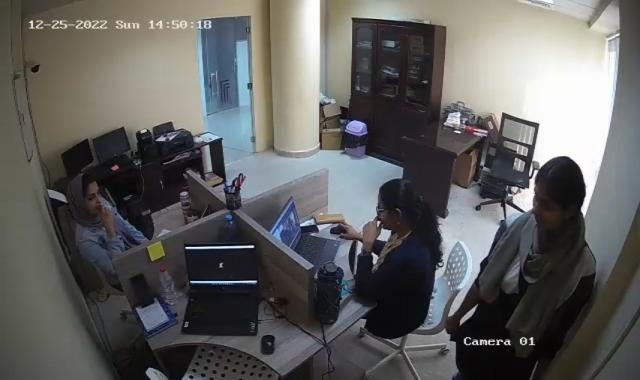no_hairnet: (530, 155, 583, 226), (375, 177, 416, 230), (66, 172, 105, 217)
